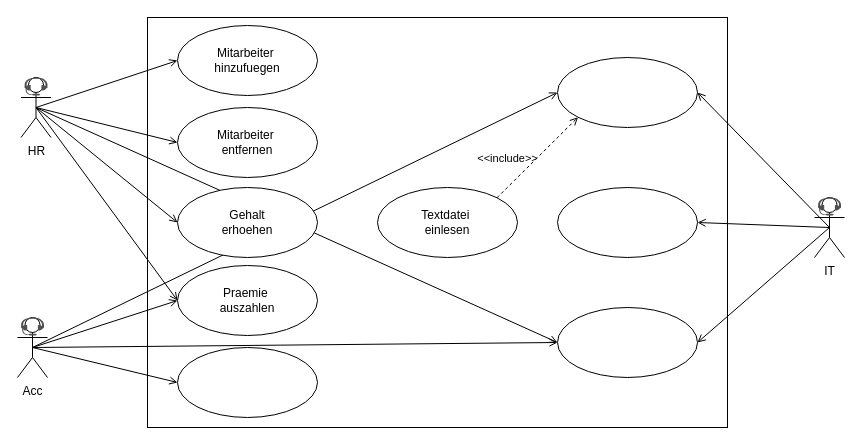
The diagram is 862 pixels wide and 445 high, and some of its shapes have lost their labels. The centre of each missing label's shape, as x and y in pixels:
Gehaelter abrechnen: the point at 247,382
Programm beenden: the point at 627,342
Programm starten: the point at 627,92
Programm warten: the point at 627,222
